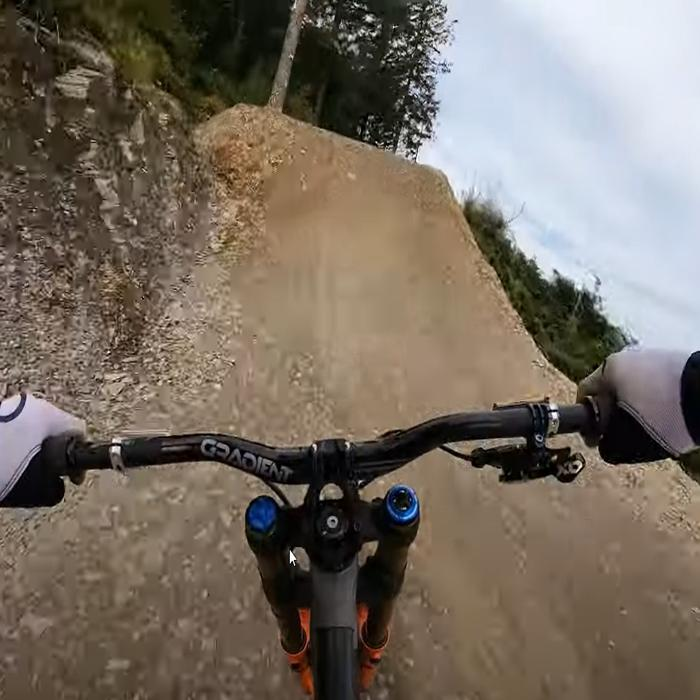turn: (243, 99, 477, 306)
